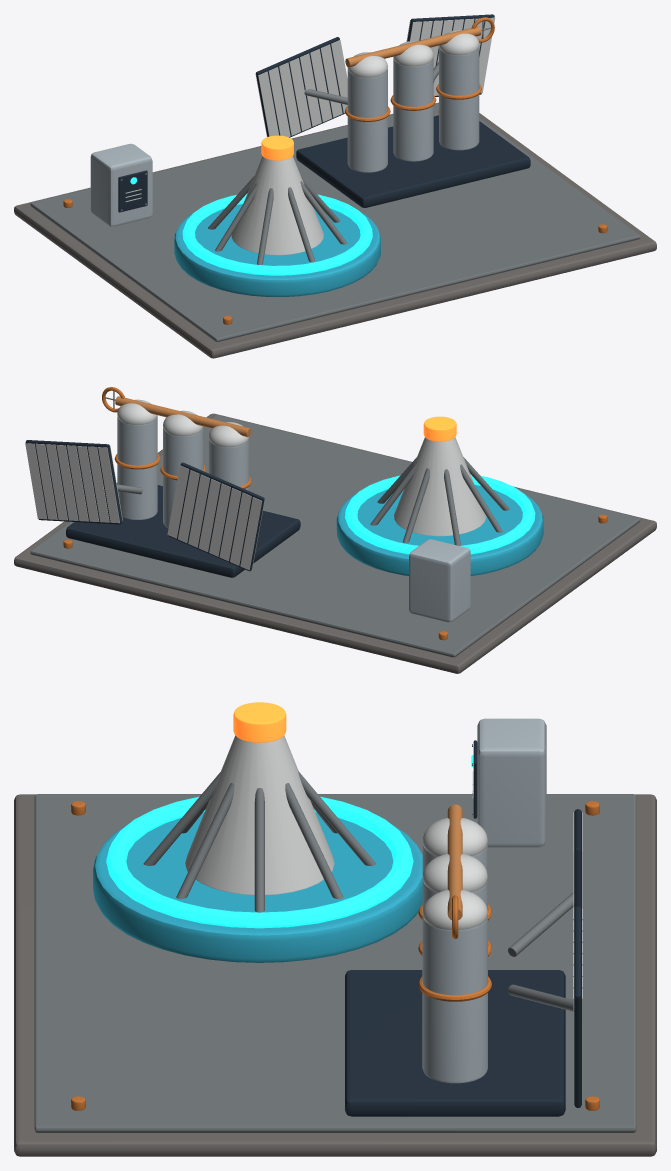
Rendered from receiver-plant.glb.
3 renders of one model, top to bottom at view 1: azimuth 30°, elevation 25°; view 2: azimuth 150°, elevation 25°; view 3: azimuth 270°, elevation 25°, orthographic. The views are drawn at different scales.
Visible parts, largest first — view 1: ReceiverPlant_ServiceDeck, ReceiverPlant_Foundation, RenderBatch_Receiver_SabatierRoot_RECV_Body, Receiver_ProcessSkid, Receiver_AbsorberDeck, Detail_Receiver_Radiator_-1, Receiver_FluxCone, Receiver_AbsorberRing, Receiver_ControlCab, RenderBatch_Receiver_DishPivot_RECV_Frame, RenderBatch_Receiver_SabatierRoot_RECV_ThermalWhite, Detail_Receiver_Radiator_+1 (+6 smaller); view 2: ReceiverPlant_ServiceDeck, ReceiverPlant_Foundation, Receiver_AbsorberDeck, RenderBatch_Receiver_SabatierRoot_RECV_Body, Detail_Receiver_Radiator_+1, Detail_Receiver_Radiator_-1, Receiver_ProcessSkid, Receiver_FluxCone, Receiver_ControlCab, Receiver_AbsorberRing, RenderBatch_Receiver_DishPivot_RECV_Frame, RenderBatch_Receiver_SabatierRoot_RECV_ThermalWhite (+5 smaller); view 3: ReceiverPlant_ServiceDeck, ReceiverPlant_Foundation, Receiver_ProcessSkid, Receiver_AbsorberDeck, Receiver_FluxCone, RenderBatch_Receiver_SabatierRoot_RECV_Body, Receiver_AbsorberRing, Receiver_ControlCab, RenderBatch_Receiver_DishPivot_RECV_Frame, RenderBatch_Receiver_SabatierRoot_RECV_ThermalWhite, Receiver_Aperture, RenderBatch_Receiver_SabatierRoot_RECV_Frame (+5 smaller).
Boxes of the visible parts, x1,y1,x2,y2 form: ReceiverPlant_ServiceDeck: [30, 103, 640, 341]; ReceiverPlant_Foundation: [14, 102, 656, 358]; RenderBatch_Receiver_SabatierRoot_RECV_Body: [347, 47, 479, 172]; Receiver_ProcessSkid: [296, 115, 530, 207]; Receiver_AbsorberDeck: [174, 204, 380, 297]; Detail_Receiver_Radiator_-1: [255, 40, 347, 137]; Receiver_FluxCone: [231, 156, 323, 255]; Receiver_AbsorberRing: [182, 193, 372, 275]; Receiver_ControlCab: [90, 143, 152, 226]; RenderBatch_Receiver_DishPivot_RECV_Frame: [208, 176, 347, 264]; RenderBatch_Receiver_SabatierRoot_RECV_ThermalWhite: [347, 30, 479, 77]; Detail_Receiver_Radiator_+1: [406, 17, 495, 95]; ReceiverPlant_ServiceDeck: [30, 415, 640, 657]; ReceiverPlant_Foundation: [14, 413, 656, 673]; Receiver_AbsorberDeck: [336, 485, 543, 575]; RenderBatch_Receiver_SabatierRoot_RECV_Body: [117, 417, 249, 528]; Detail_Receiver_Radiator_+1: [25, 443, 122, 523]; Detail_Receiver_Radiator_-1: [167, 465, 264, 570]; Receiver_ProcessSkid: [66, 485, 300, 577]; Receiver_FluxCone: [394, 437, 486, 536]; Receiver_ControlCab: [409, 539, 470, 622]; Receiver_AbsorberRing: [345, 474, 535, 554]; RenderBatch_Receiver_DishPivot_RECV_Frame: [370, 457, 509, 545]; RenderBatch_Receiver_SabatierRoot_RECV_ThermalWhite: [117, 399, 249, 447]; ReceiverPlant_ServiceDeck: [34, 794, 636, 1132]; ReceiverPlant_Foundation: [14, 794, 656, 1156]; Receiver_ProcessSkid: [345, 970, 565, 1116]; Receiver_AbsorberDeck: [93, 812, 422, 962]; Receiver_FluxCone: [185, 735, 334, 894]; RenderBatch_Receiver_SabatierRoot_RECV_Body: [422, 844, 487, 1083]; Receiver_AbsorberRing: [106, 796, 413, 928]; Receiver_ControlCab: [477, 718, 546, 847]; RenderBatch_Receiver_DishPivot_RECV_Frame: [143, 771, 375, 912]; RenderBatch_Receiver_SabatierRoot_RECV_ThermalWhite: [422, 818, 487, 930]; Receiver_Aperture: [233, 702, 286, 742]; RenderBatch_Receiver_SabatierRoot_RECV_Frame: [508, 892, 574, 1011].
Bounding box in the file's own units: 13.52 × 4.05 × 10.2.
